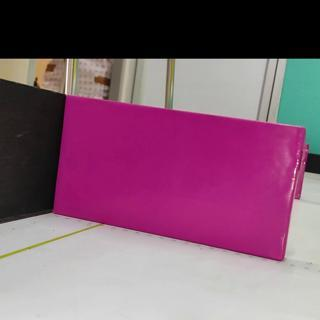xparking: (53, 95, 304, 262)
